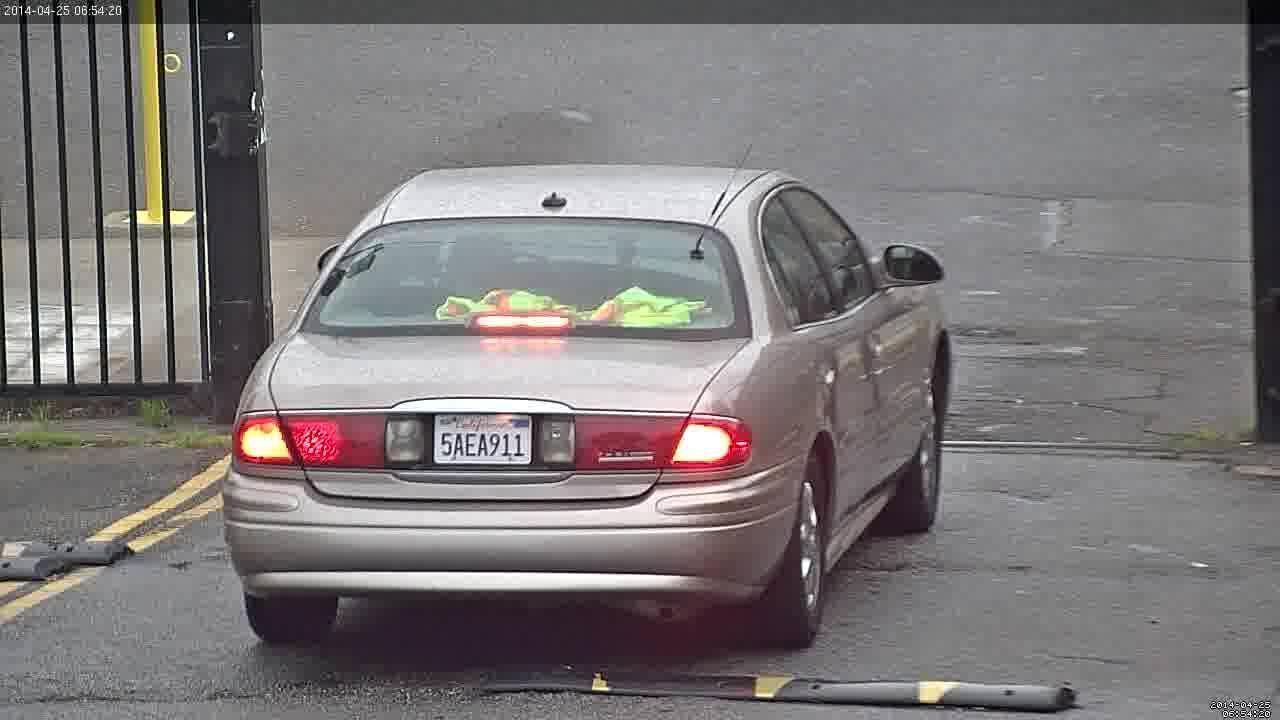placa de veiculo: (415, 400, 540, 481)
